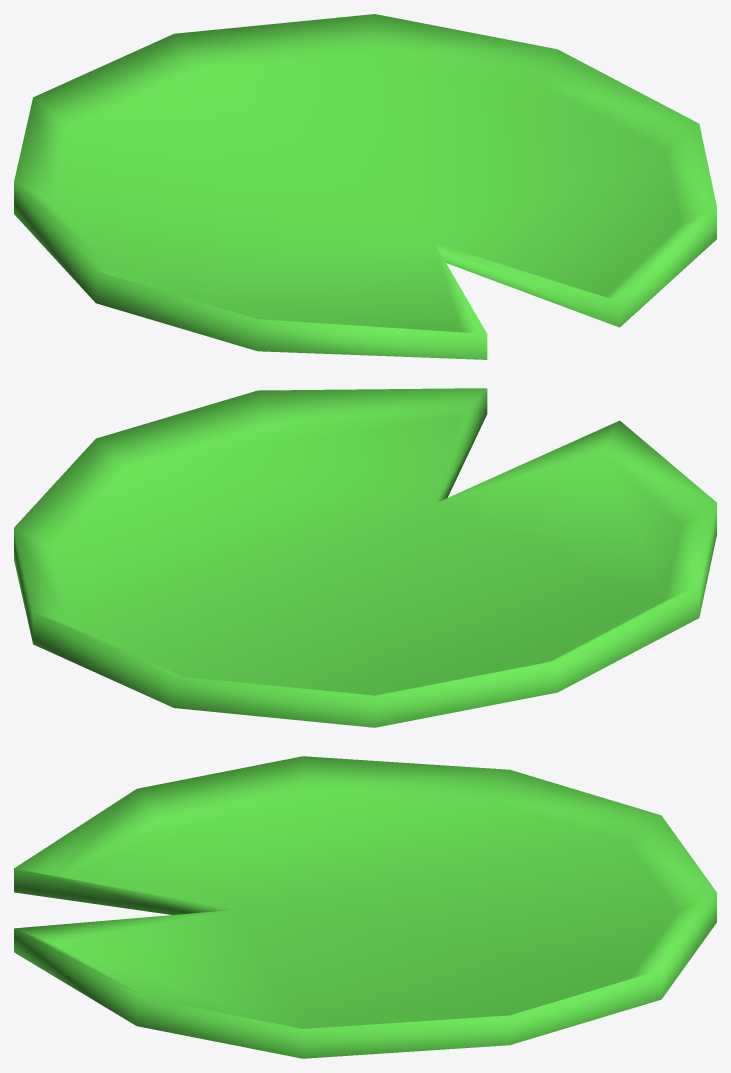
The model's file is lilypad.fbx.
The picture shows the model from 3 angles, top to bottom: view 1: azimuth 30°, elevation 25°; view 2: azimuth 150°, elevation 25°; view 3: azimuth 270°, elevation 25°; orthographic projection. The views are drawn at different scales.
Visible parts, largest first — view 1: Cylinder; view 2: Cylinder; view 3: Cylinder.
Part boxes in pixels (x1,y1,x2,y2): Cylinder: [14, 14, 716, 359]; Cylinder: [14, 388, 716, 727]; Cylinder: [14, 756, 716, 1058].
Bounding box in the file's own units: 31.17 × 1.59 × 33.95.
